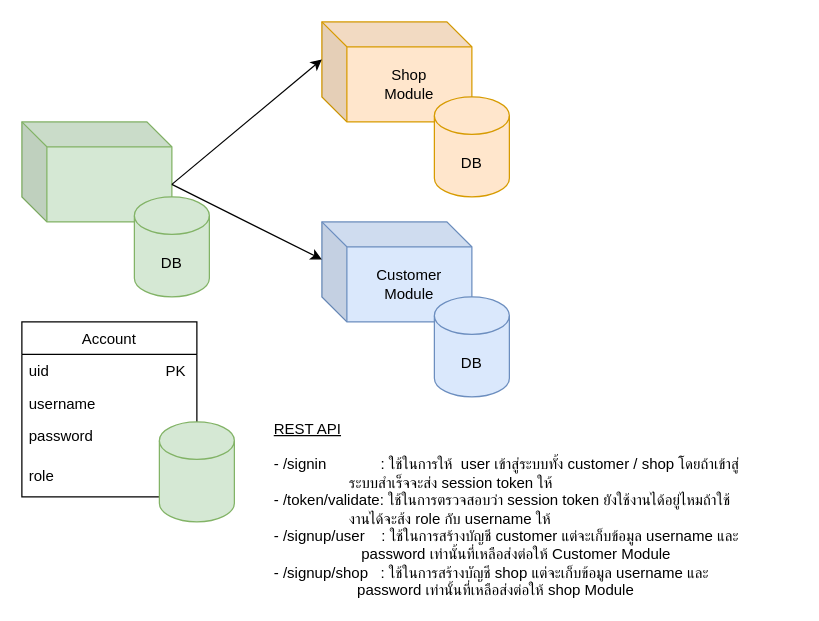
Some shapes in this 819 by 621 pixel diagram are drawn without their labels. The shapes that lost their labels are listed below. From the top down, each one's centre as x and y in pixels, then its label:
At point 96,171: "Authentication Module".
At point 196,471: "Auth DB".
